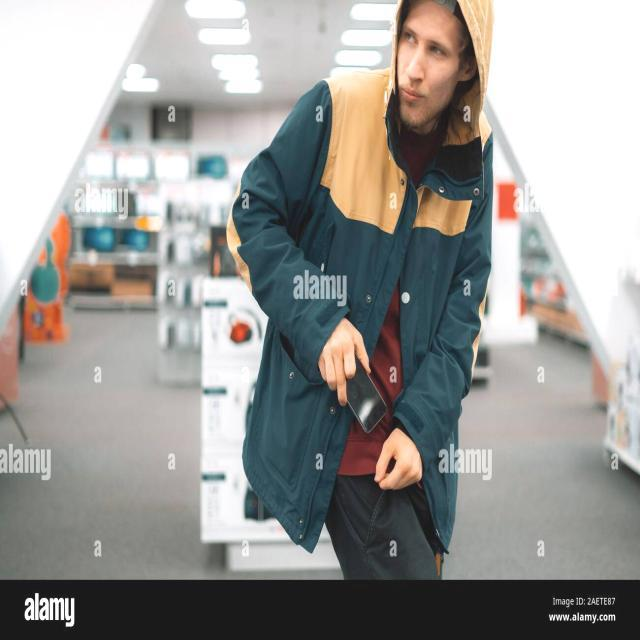shoplifting: (229, 286, 531, 525)
